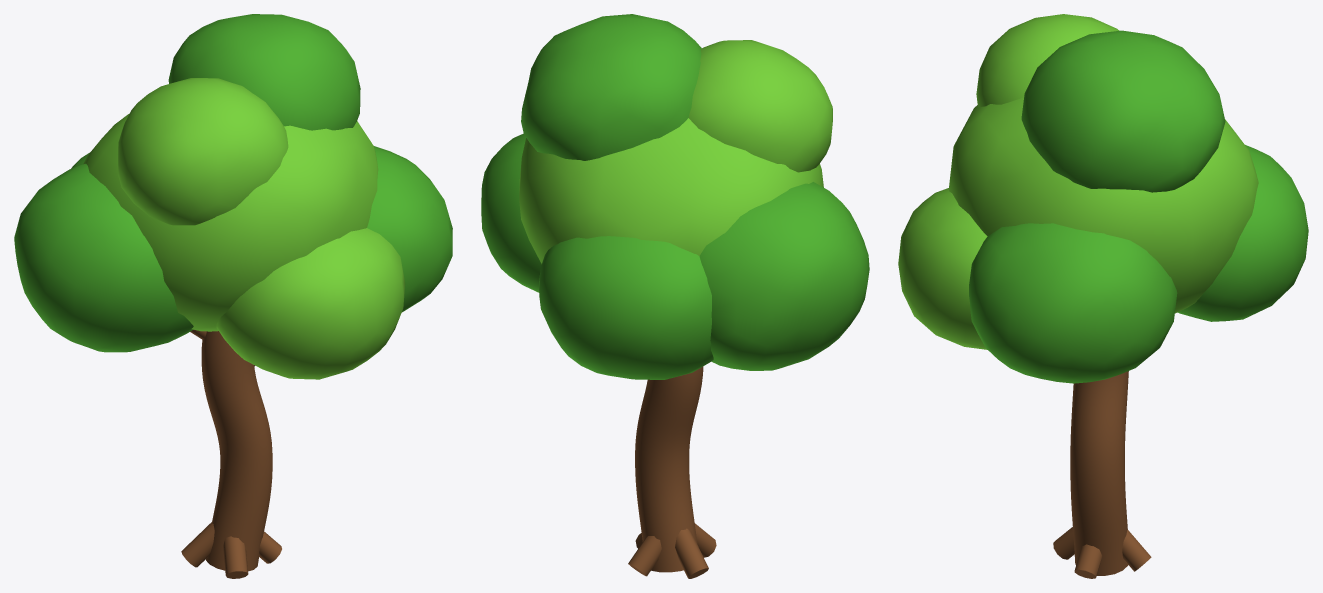
Rendered from tree_puffy.glb.
3 views of the same model, side by side, from view 1: azimuth 30°, elevation 25°; view 2: azimuth 150°, elevation 25°; view 3: azimuth 270°, elevation 25° (orthographic). The views are drawn at different scales.
Parts seen in each view (by area): view 1: Leaf_clump, Leaf_clump.002, Leaf_clump.003, Leaf_clump.006, Leaf_clump.005, Bark_trunk, Leaf_clump.001, Bark_root.001, Bark_root.002; view 2: Leaf_clump, Leaf_clump.002, Leaf_clump.004, Leaf_clump.005, Leaf_clump.006, Bark_trunk, Leaf_clump.001, Bark_root.002, Bark_root.003; view 3: Leaf_clump.001, Leaf_clump, Leaf_clump.005, Leaf_clump.004, Bark_trunk, Leaf_clump.003, Leaf_clump.006, Bark_root, Bark_root.003.
Boxes of the visible parts, x1,y1,x2,y2 form: Leaf_clump: [83, 113, 378, 331]; Leaf_clump.002: [14, 163, 193, 352]; Leaf_clump.003: [216, 228, 405, 379]; Leaf_clump.006: [117, 78, 288, 225]; Leaf_clump.005: [168, 14, 360, 130]; Bark_trunk: [201, 331, 272, 571]; Leaf_clump.001: [367, 146, 452, 312]; Bark_root.001: [223, 536, 248, 578]; Bark_root.002: [181, 521, 214, 567]; Leaf_clump: [519, 118, 823, 263]; Leaf_clump.002: [699, 182, 869, 370]; Leaf_clump.004: [539, 236, 713, 379]; Leaf_clump.005: [521, 14, 701, 160]; Leaf_clump.006: [688, 40, 832, 172]; Bark_trunk: [635, 366, 703, 572]; Leaf_clump.001: [481, 133, 541, 292]; Bark_root.002: [675, 528, 708, 578]; Bark_root.003: [628, 536, 661, 576]; Leaf_clump.001: [969, 223, 1177, 383]; Leaf_clump: [948, 97, 1258, 313]; Leaf_clump.005: [1021, 30, 1225, 192]; Leaf_clump.004: [1178, 145, 1308, 321]; Bark_trunk: [1070, 371, 1128, 575]; Leaf_clump.003: [898, 188, 987, 349]; Leaf_clump.006: [976, 14, 1119, 107]; Bark_root: [1074, 544, 1101, 578]; Bark_root.003: [1122, 529, 1151, 571].
Size of the model in its own units: 4.66 by 6.09 by 4.2.
